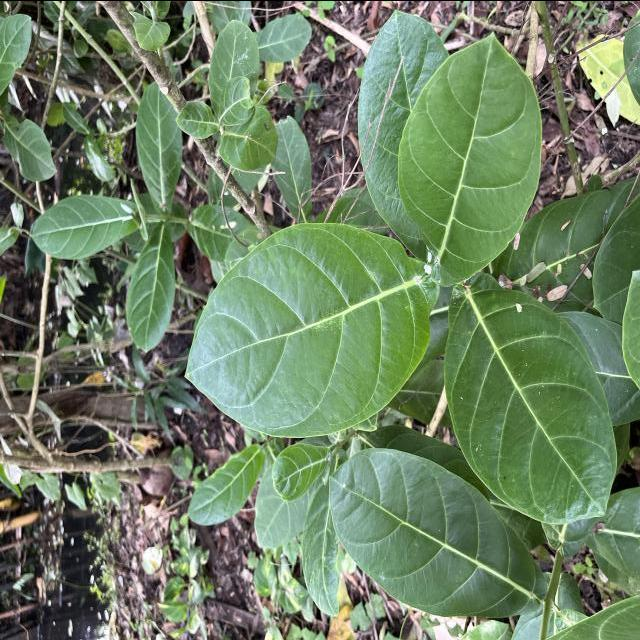Calotropis gigantea: (182, 218, 432, 439), (442, 270, 618, 525), (327, 444, 549, 619), (396, 30, 543, 288), (356, 7, 442, 259), (30, 192, 141, 260), (126, 220, 176, 353), (187, 442, 266, 526), (134, 79, 184, 208), (208, 19, 260, 120), (270, 442, 331, 500)
